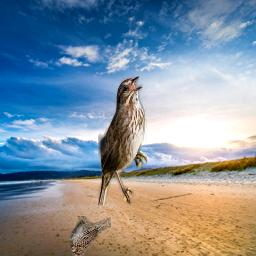Sparrow: (98, 76, 147, 206), (69, 216, 111, 256)
